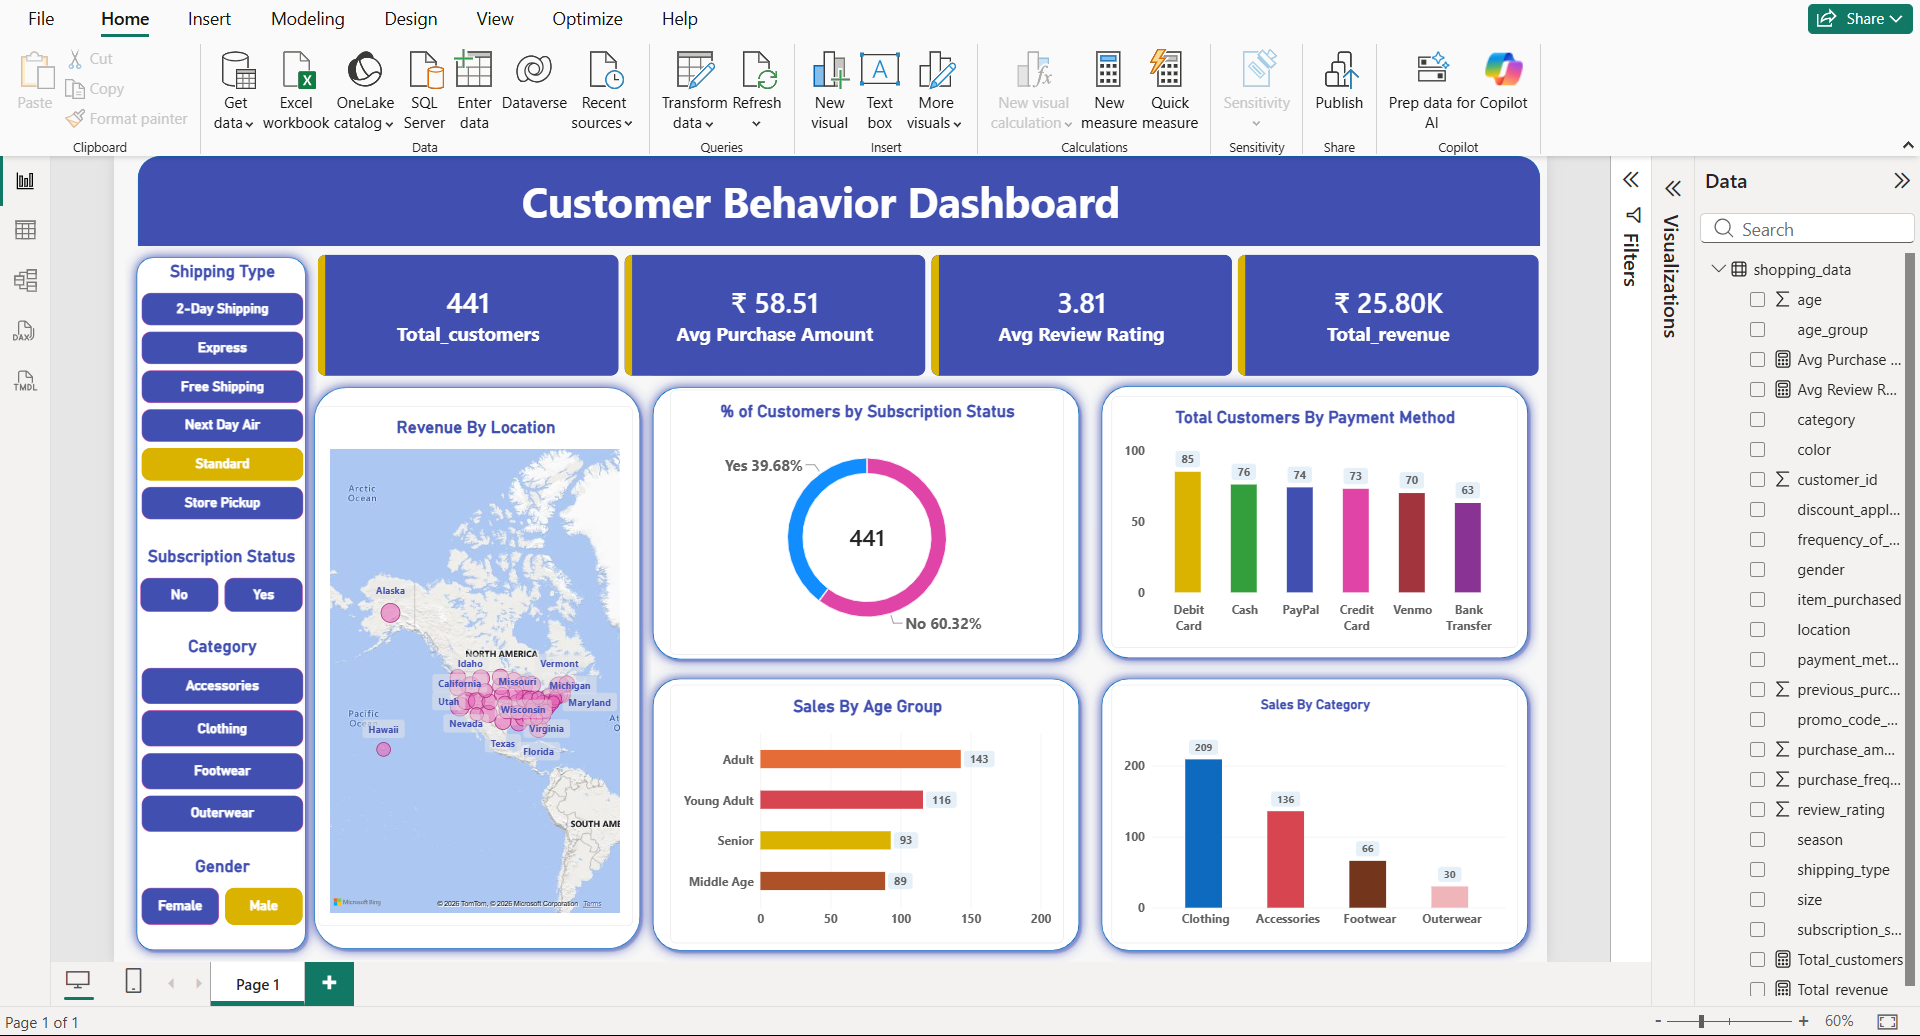

The page's visual inventory and layout, read from the dashboard file:
{"tool":"powerbi","page":{"name":"Page 1","canvas":[1920,1080],"ordinal":0},"visuals":[{"type":"cardVisual","fields":{"Data":["shopping_data.Total_customers","shopping_data.Avg Purchase Amount","shopping_data.Avg Review Rating","shopping_data.Total_revenue"]},"box":[272.4,132.8,1637.9,162.1],"z":0},{"type":"shape","box":[31,0,1879.3,120.7],"z":1},{"type":"textbox","box":[31,22.4,1831,98.3],"z":2},{"type":"shape","box":[706.9,294.8,601.7,394.8],"z":3},{"type":"donutChart","title":"% of Customers by Subscription Status","fields":{"Category":["shopping_data.subscription_status"],"Y":["CountNonNull(shopping_data.customer_id)"]},"box":[744.8,313.8,527.6,355.2],"z":4},{"type":"shape","box":[1308.6,684.5,601.7,394.8],"z":10},{"type":"shape","box":[1308.6,293.1,601.7,394.8],"z":11},{"type":"columnChart","title":"Total Customers By Payment Method","fields":{"Category":["shopping_data.payment_method"],"Y":["CountNonNull(shopping_data.customer_id)"]},"box":[1336.2,322.4,544.8,337.9],"z":12},{"type":"clusteredColumnChart","title":"Sales By Category","fields":{"Category":["shopping_data.category"],"Y":["CountNonNull(shopping_data.customer_id)"]},"box":[1336.2,708.6,544.8,346.6],"z":13},{"type":"shape","box":[15.5,120.7,256.9,958.6],"z":14},{"type":"advancedSlicerVisual","title":"Shipping Type","fields":{"Values":["shopping_data.shipping_type"]},"box":[36.2,141.4,217.2,346.6],"z":15},{"type":"advancedSlicerVisual","title":"Gender","fields":{"Values":["shopping_data.gender"]},"box":[36.2,937.9,217.2,93.1],"z":17},{"type":"advancedSlicerVisual","title":"Subscription Status","fields":{"Values":["shopping_data.subscription_status"]},"box":[36.2,524.1,217.2,91.4],"z":18},{"type":"advancedSlicerVisual","title":"Category","fields":{"Values":["shopping_data.category"]},"box":[36.2,643.1,217.2,263.8],"z":19},{"type":"shape","box":[706.9,684.5,601.7,394.8],"z":20},{"type":"shape","box":[253.4,294.8,467.2,782.8],"z":22},{"type":"map","title":"Revenue By Location","fields":{"Category":["shopping_data.location"],"Size":["shopping_data.Total_revenue"]},"box":[272.4,334.5,422.4,696.6],"z":23},{"type":"clusteredBarChart","title":"Sales By Age Group","fields":{"Category":["shopping_data.age_group"],"Y":["CountNonNull(shopping_data.customer_id)"]},"box":[744.8,708.6,527.6,346.6],"z":24}]}

Visuals, with their boxes on the page's 1920x1080 design canvas (x1, y1, x2, y2). These are canvas units, not pixel positions in the 1920x1036 screenshot, which may show the page scaled, cropped or inside an application window:
cardVisual - shopping_data.Total_customers x shopping_data.Avg Purchase Amount: detection(272, 133, 1910, 295)
shape: detection(31, 0, 1910, 121)
textbox: detection(31, 22, 1862, 121)
shape: detection(707, 295, 1309, 690)
"% of Customers by Subscription Status" donutChart: detection(745, 314, 1272, 669)
shape: detection(1309, 684, 1910, 1079)
shape: detection(1309, 293, 1910, 688)
"Total Customers By Payment Method" columnChart: detection(1336, 322, 1881, 660)
"Sales By Category" clusteredColumnChart: detection(1336, 709, 1881, 1055)
shape: detection(16, 121, 272, 1079)
"Shipping Type" advancedSlicerVisual: detection(36, 141, 253, 488)
"Gender" advancedSlicerVisual: detection(36, 938, 253, 1031)
"Subscription Status" advancedSlicerVisual: detection(36, 524, 253, 616)
"Category" advancedSlicerVisual: detection(36, 643, 253, 907)
shape: detection(707, 684, 1309, 1079)
shape: detection(253, 295, 721, 1078)
"Revenue By Location" map: detection(272, 334, 695, 1031)
"Sales By Age Group" clusteredBarChart: detection(745, 709, 1272, 1055)
